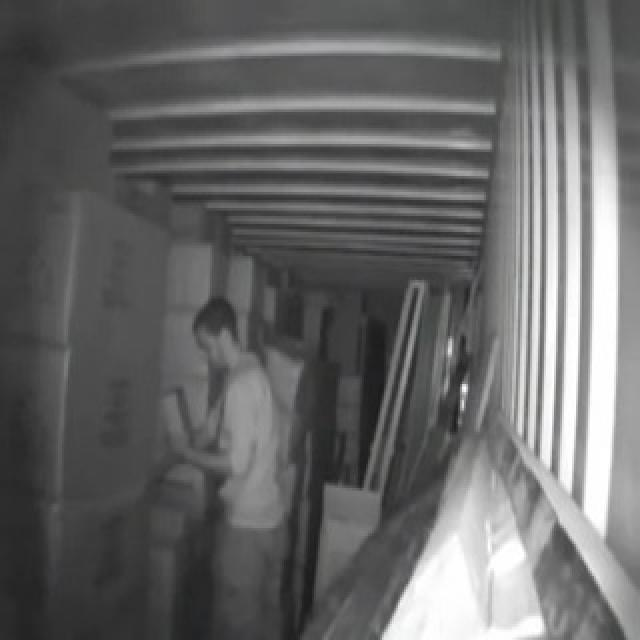thief: (172, 295, 297, 635)
